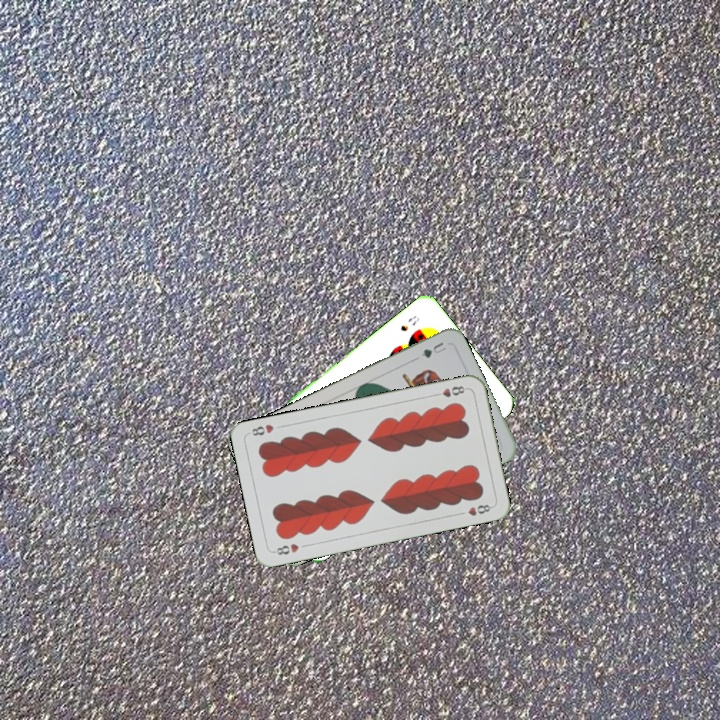GU: (417, 338, 450, 360)
H8: (430, 382, 470, 400), (270, 539, 302, 557)
S8: (396, 311, 422, 334)
